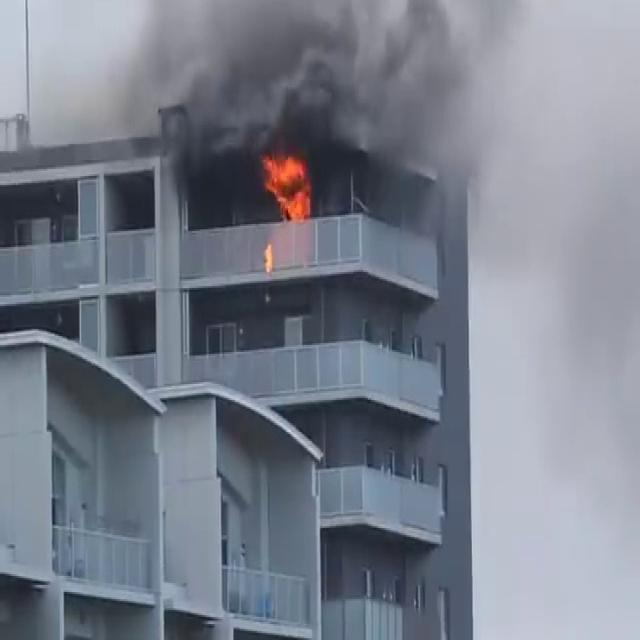Fire: (256, 143, 318, 223)
Smoke: (104, 0, 592, 215)
